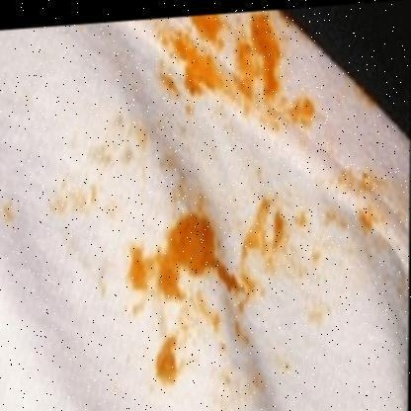kimchi: (92, 163, 391, 393), (173, 76, 317, 134), (174, 9, 282, 76), (80, 107, 200, 163), (0, 177, 89, 236), (141, 23, 172, 84)
